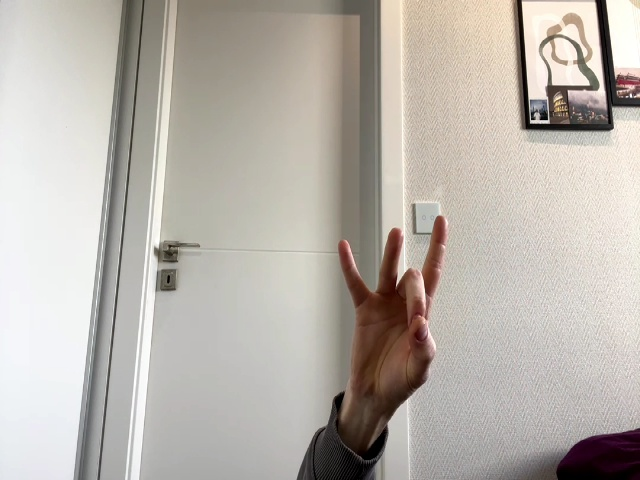G: (338, 215, 448, 402)
